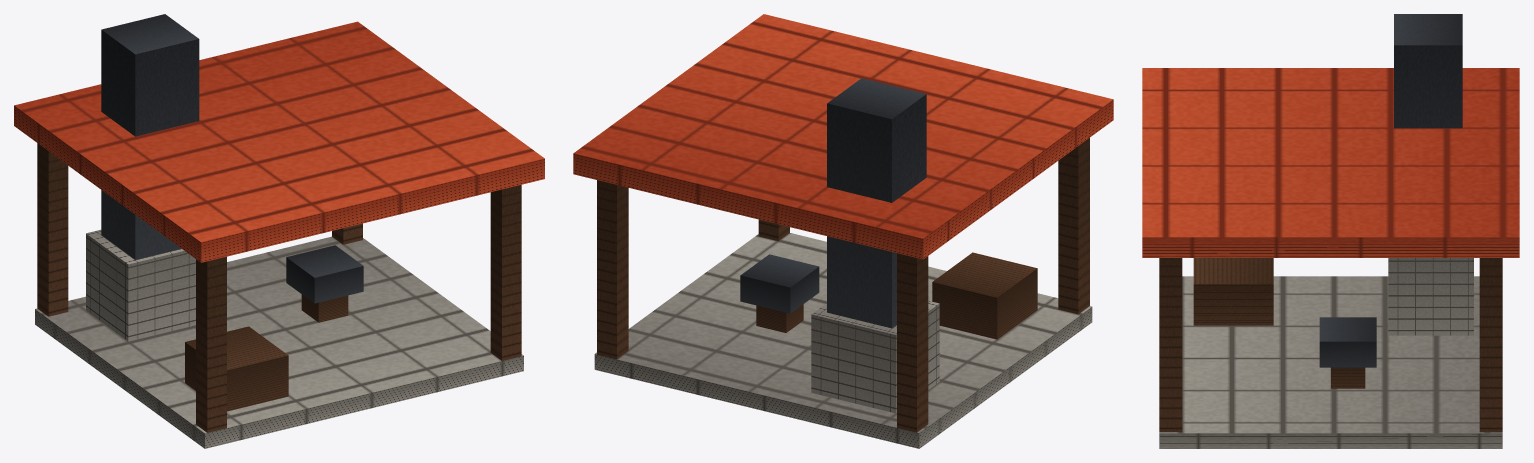
Rendered from house_blacksmith.gltf.
The picture shows the model from 3 angles, left to right: view 1: azimuth 30°, elevation 25°; view 2: azimuth 150°, elevation 25°; view 3: azimuth 270°, elevation 25°; orthographic projection.
Visible parts, largest first — view 1: house_blacksmith; view 2: house_blacksmith; view 3: house_blacksmith.
Boxes of the visible parts, <box> form: house_blacksmith: <box>14,14,544,448</box>; house_blacksmith: <box>573,14,1113,448</box>; house_blacksmith: <box>1142,14,1519,448</box>.
Bounding box in the file's own units: 7 × 5.8 × 6.6.
Materials: 1 (1 with a texture image).
